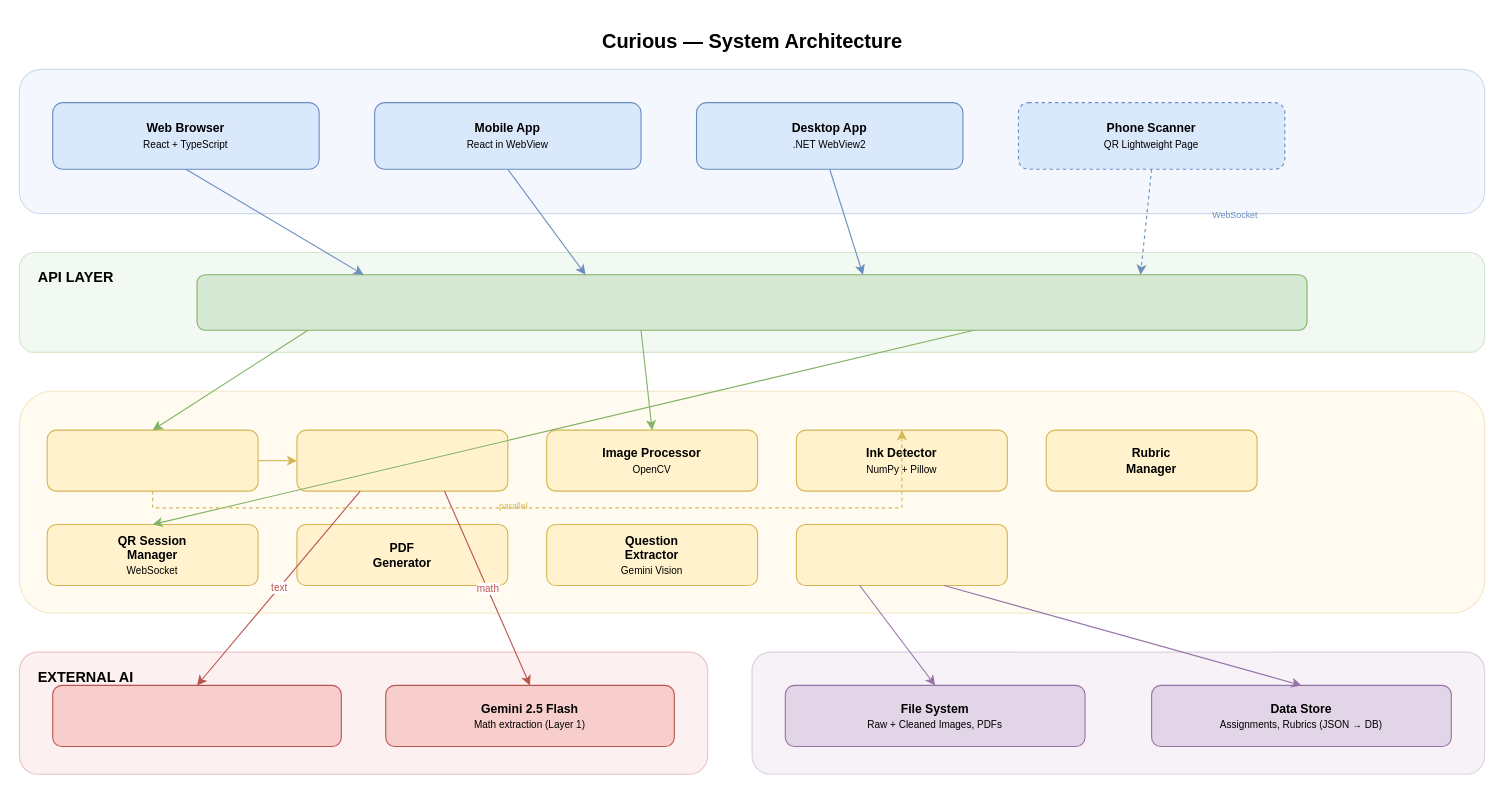
Image size: 1504x794. Some labels were removed from this diagram. The box of each missing label's shape, as (x1, y1, x2, y2) in pixels:
CLIENT LAYER: (18, 68, 1485, 214)
CORE SERVICES: (18, 390, 1485, 613)
Evaluation Engine: (46, 429, 258, 491)
FastAPI Backend REST API + WebSocket | Python 3.10 | Uvicorn: (196, 274, 1307, 330)
Gemini 2.0 Flash Text eval + Math eval (Layer 2): (52, 684, 341, 746)
STORAGE: (751, 651, 1485, 774)
Storage Service: (795, 523, 1007, 586)
Subject Router: (296, 429, 508, 491)
